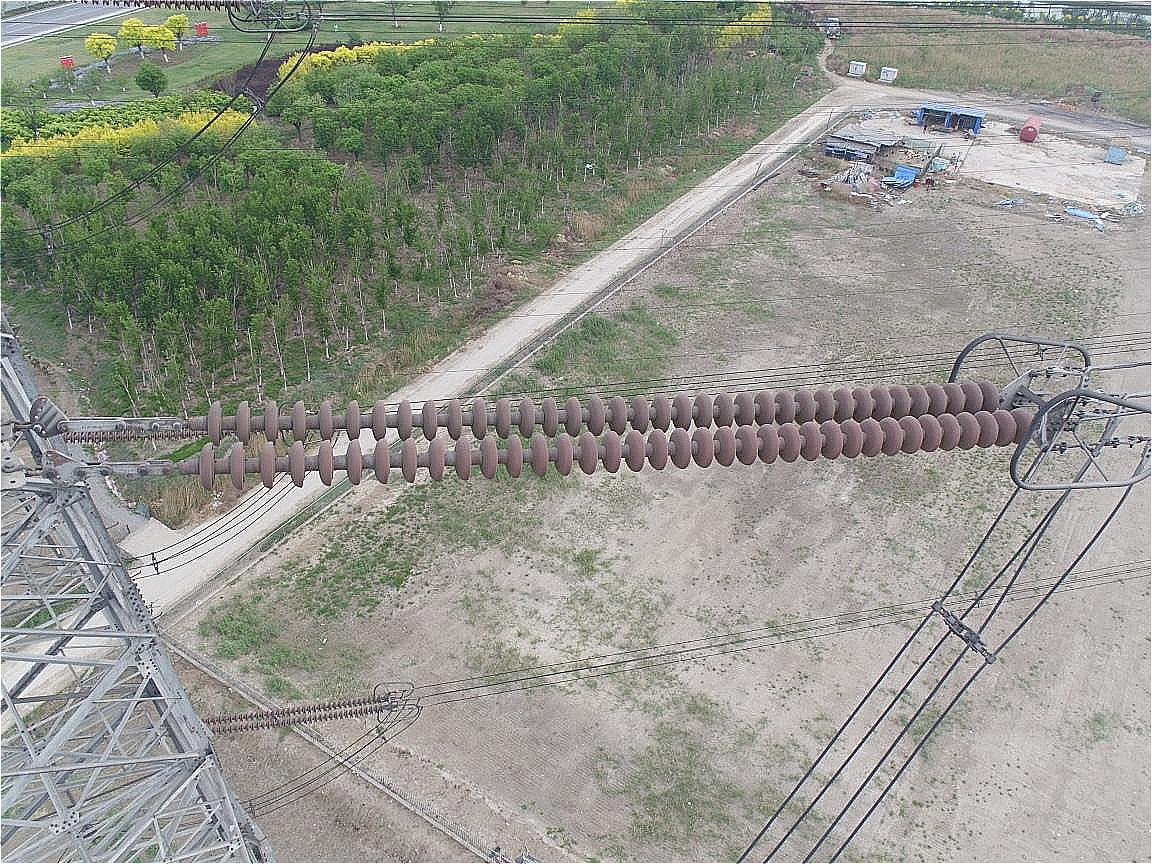insultor1: (198, 379, 1034, 492)
insultor2: (210, 695, 385, 733)
